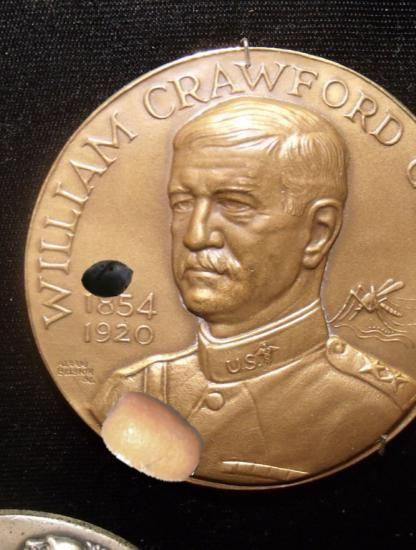Kumquats: (100, 386, 206, 492)
Plum: (81, 252, 135, 306)
